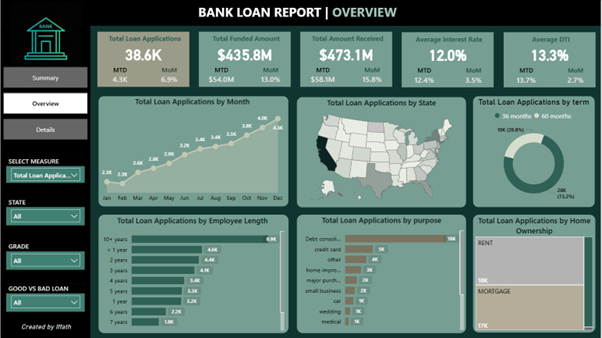

Layout of this report page (visuals, bound fields, positions):
{"tool":"powerbi","page":{"name":"Overview","canvas":[1280,720],"ordinal":1},"visuals":[{"type":"shape","box":[0,55.2,192,665.6],"z":0},{"type":"shape","box":[206.3,67.8,195.8,117.5],"z":0,"group":"g1"},{"type":"shape","box":[422.8,67.8,195.8,117.5],"z":0,"group":"g2"},{"type":"shape","box":[639.3,67.8,195.8,117.5],"z":0,"group":"g3"},{"type":"shape","box":[855.8,68.3,195.8,117.5],"z":0,"group":"g4"},{"type":"shape","box":[1072.7,68.3,195.8,117.5],"z":0,"group":"g5"},{"type":"card","fields":{"Values":["public bank_loan_data.Total Loan Applications"]},"box":[238.3,87.4,131.7,55.2],"z":1000,"group":"g1"},{"type":"card","fields":{"Values":["public bank_loan_data.Total Funded Amount"]},"box":[454.8,87.4,131.7,55.2],"z":1000,"group":"g2"},{"type":"card","fields":{"Values":["public bank_loan_data.Total Amount Received"]},"box":[671.3,87.4,131.7,55.2],"z":1000,"group":"g3"},{"type":"card","fields":{"Values":["public bank_loan_data.Avg Interest Rate"]},"box":[887.8,87.9,131.7,55.2],"z":1000,"group":"g4"},{"type":"card","fields":{"Values":["public bank_loan_data.Average DTI"]},"box":[1104.7,87.9,131.7,55.2],"z":1000,"group":"g5"},{"type":"shape","box":[209.2,204.9,405,235],"z":1000},{"type":"shape","box":[0,0,1280,55],"z":2000},{"type":"textbox","box":[220.5,67.8,172.6,39.2],"z":2000,"group":"g1"},{"type":"textbox","box":[437,67.8,172.6,39.2],"z":2000,"group":"g2"},{"type":"textbox","box":[653.5,67.8,172.6,39.2],"z":2000,"group":"g3"},{"type":"textbox","box":[870,68.3,172.6,39.2],"z":2000,"group":"g4"},{"type":"textbox","box":[1086.9,68.3,172.6,39.2],"z":2000,"group":"g5"},{"type":"textbox","box":[416.5,1.8,448.5,53.4],"z":3000},{"type":"card","title":"MTD","fields":{"Values":["public bank_loan_data.MTD Loan Applications"]},"box":[220.5,139,67.6,46.3],"z":3000,"group":"g1"},{"type":"card","title":"MTD","fields":{"Values":["public bank_loan_data.MTD Funded Amount"]},"box":[437,139,67.6,46.3],"z":3000,"group":"g2"},{"type":"card","title":"MTD","fields":{"Values":["public bank_loan_data.MTD Total Amount Received"]},"box":[653.5,139,67.6,46.3],"z":3000,"group":"g3"},{"type":"card","title":"MTD","fields":{"Values":["public bank_loan_data.MTD Avg Interest Rate"]},"box":[870,139.5,67.6,46.3],"z":3000,"group":"g4"},{"type":"card","title":"MTD","fields":{"Values":["public bank_loan_data.MTD Avg DTI"]},"box":[1086.9,139.5,67.6,46.3],"z":3000,"group":"g5"},{"type":"group","id":"g1","title":"Group 1","box":[206.3,67.8,196.2,118.3],"z":4000},{"type":"card","title":"MoM","fields":{"Values":["public bank_loan_data.MoM Loan Application"]},"box":[325.5,139,67.6,46.3],"z":4000,"group":"g1"},{"type":"card","title":"MoM","fields":{"Values":["public bank_loan_data.MoM Total Funded Amount"]},"box":[542,139,67.6,46.3],"z":4000,"group":"g2"},{"type":"card","title":"MoM","fields":{"Values":["public bank_loan_data.MoM Total Amount Received"]},"box":[758.5,139,67.6,46.3],"z":4000,"group":"g3"},{"type":"card","title":"MoM","fields":{"Values":["public bank_loan_data.MoM Avg Interest Rate"]},"box":[975,139.5,67.6,46.3],"z":4000,"group":"g4"},{"type":"card","title":"MoM","fields":{"Values":["public bank_loan_data.MoM Avg DTI"]},"box":[1191.9,139.5,67.6,46.3],"z":4000,"group":"g5"},{"type":"group","id":"g2","title":"Group 1","box":[422.8,67.8,196.2,118.3],"z":5000},{"type":"group","id":"g3","title":"Group 1","box":[639.3,67.8,196.2,116.9],"z":6000},{"type":"group","id":"g4","title":"Group 1","box":[855.8,68.3,196.6,117.5],"z":7000},{"type":"group","id":"g5","title":"Group 1","box":[1072.7,68.3,195.4,117.5],"z":8000},{"type":"slicer","title":"STATE","fields":{"Values":["public bank_loan_data.address_state"]},"box":[13,421.2,167.4,59.2],"z":9000},{"type":"slicer","title":"GRADE","fields":{"Values":["public bank_loan_data.grade"]},"box":[13,515,167.4,59.2],"z":10000},{"type":"slicer","title":"GOOD VS BAD LOAN","fields":{"Values":["public bank_loan_data.Good vs Bad Loan"]},"box":[13,604.5,167.4,59.2],"z":11000},{"type":"areaChart","fields":{"Y":["public bank_loan_data.Total Loan Applications"],"Category":["Date Table.Month"]},"box":[209.2,204.9,401.1,235.2],"z":12000},{"type":"slicer","title":"SELECT MEASURE","fields":{"Values":["Select Measure.Select Measure"]},"box":[13,333.2,167.4,56.3],"z":13000},{"type":"shape","box":[631.9,206.3,360.7,235.2],"z":14000},{"type":"shapeMap","fields":{"Value":["public bank_loan_data.Total Loan Applications"],"Category":["public bank_loan_data.address_state"]},"box":[631.9,206.3,360.7,233.7],"z":15000},{"type":"shape","box":[1007,204.9,259.7,236.6],"z":16000},{"type":"donutChart","fields":{"Y":["public bank_loan_data.Total Loan Applications"],"Category":["public bank_loan_data.term"]},"box":[1007,206.3,259.7,233.7],"z":17000},{"type":"shape","box":[209.2,457.4,405.4,252.5],"z":18000},{"type":"barChart","fields":{"Y":["public bank_loan_data.Total Loan Applications"],"Category":["public bank_loan_data.emp_length"]},"box":[209.2,458.8,401.1,251],"z":19000},{"type":"shape","box":[631.9,457.4,360.7,252.5],"z":20000},{"type":"barChart","fields":{"Y":["public bank_loan_data.Total Loan Applications"],"Category":["public bank_loan_data.purpose"]},"box":[631.9,457.4,360.7,251],"z":21000},{"type":"shape","box":[1007,457.4,261.1,251],"z":22000},{"type":"treemap","fields":{"Values":["public bank_loan_data.Total Loan Applications"],"Group":["public bank_loan_data.home_ownership"]},"box":[1008.5,458.8,259.7,249.6],"z":23000},{"type":"image","box":[5.8,0,181.8,160.1],"z":24000},{"type":"pageNavigator","box":[5.8,142.8,180.3,155.8],"z":25000},{"type":"textbox","box":[13.2,681.9,167.8,28.8],"z":25001}]}

Visuals, with their boxes in screenshot pixels (x1, y1, x2, y2), scaled from the page's 1280x720 canvas onto the 602x338 screenshot:
shape: x1=0, y1=26, x2=90, y2=337
shape: x1=97, y1=32, x2=189, y2=87
shape: x1=199, y1=32, x2=291, y2=87
shape: x1=301, y1=32, x2=393, y2=87
shape: x1=402, y1=32, x2=495, y2=87
shape: x1=505, y1=32, x2=597, y2=87
card - public bank_loan_data.Total Loan Applications: x1=112, y1=41, x2=174, y2=67
card - public bank_loan_data.Total Funded Amount: x1=214, y1=41, x2=276, y2=67
card - public bank_loan_data.Total Amount Received: x1=316, y1=41, x2=378, y2=67
card - public bank_loan_data.Avg Interest Rate: x1=418, y1=41, x2=479, y2=67
card - public bank_loan_data.Average DTI: x1=520, y1=41, x2=581, y2=67
shape: x1=98, y1=96, x2=289, y2=207
shape: x1=0, y1=0, x2=601, y2=26
textbox: x1=104, y1=32, x2=185, y2=50
textbox: x1=206, y1=32, x2=287, y2=50
textbox: x1=307, y1=32, x2=389, y2=50
textbox: x1=409, y1=32, x2=490, y2=50
textbox: x1=511, y1=32, x2=592, y2=50
textbox: x1=196, y1=1, x2=407, y2=26
"MTD" card: x1=104, y1=65, x2=135, y2=87
"MTD" card: x1=206, y1=65, x2=237, y2=87
"MTD" card: x1=307, y1=65, x2=339, y2=87
"MTD" card: x1=409, y1=65, x2=441, y2=87
"MTD" card: x1=511, y1=65, x2=543, y2=87
"Group 1" group: x1=97, y1=32, x2=189, y2=87
"MoM" card: x1=153, y1=65, x2=185, y2=87
"MoM" card: x1=255, y1=65, x2=287, y2=87
"MoM" card: x1=357, y1=65, x2=389, y2=87
"MoM" card: x1=459, y1=65, x2=490, y2=87
"MoM" card: x1=561, y1=65, x2=592, y2=87
"Group 1" group: x1=199, y1=32, x2=291, y2=87
"Group 1" group: x1=301, y1=32, x2=393, y2=87
"Group 1" group: x1=402, y1=32, x2=495, y2=87
"Group 1" group: x1=505, y1=32, x2=596, y2=87
"STATE" slicer: x1=6, y1=198, x2=85, y2=226
"GRADE" slicer: x1=6, y1=242, x2=85, y2=270
"GOOD VS BAD LOAN" slicer: x1=6, y1=284, x2=85, y2=312
areaChart - public bank_loan_data.Total Loan Applications x Date Table.Month: x1=98, y1=96, x2=287, y2=207
"SELECT MEASURE" slicer: x1=6, y1=156, x2=85, y2=183
shape: x1=297, y1=97, x2=467, y2=207
shapeMap - public bank_loan_data.Total Loan Applications x public bank_loan_data.address_state: x1=297, y1=97, x2=467, y2=207
shape: x1=474, y1=96, x2=596, y2=207
donutChart - public bank_loan_data.Total Loan Applications x public bank_loan_data.term: x1=474, y1=97, x2=596, y2=207
shape: x1=98, y1=215, x2=289, y2=333
barChart - public bank_loan_data.Total Loan Applications x public bank_loan_data.emp_length: x1=98, y1=215, x2=287, y2=333
shape: x1=297, y1=215, x2=467, y2=333
barChart - public bank_loan_data.Total Loan Applications x public bank_loan_data.purpose: x1=297, y1=215, x2=467, y2=333
shape: x1=474, y1=215, x2=596, y2=333
treemap - public bank_loan_data.Total Loan Applications x public bank_loan_data.home_ownership: x1=474, y1=215, x2=596, y2=333
image: x1=3, y1=0, x2=88, y2=75
pageNavigator: x1=3, y1=67, x2=88, y2=140
textbox: x1=6, y1=320, x2=85, y2=334
